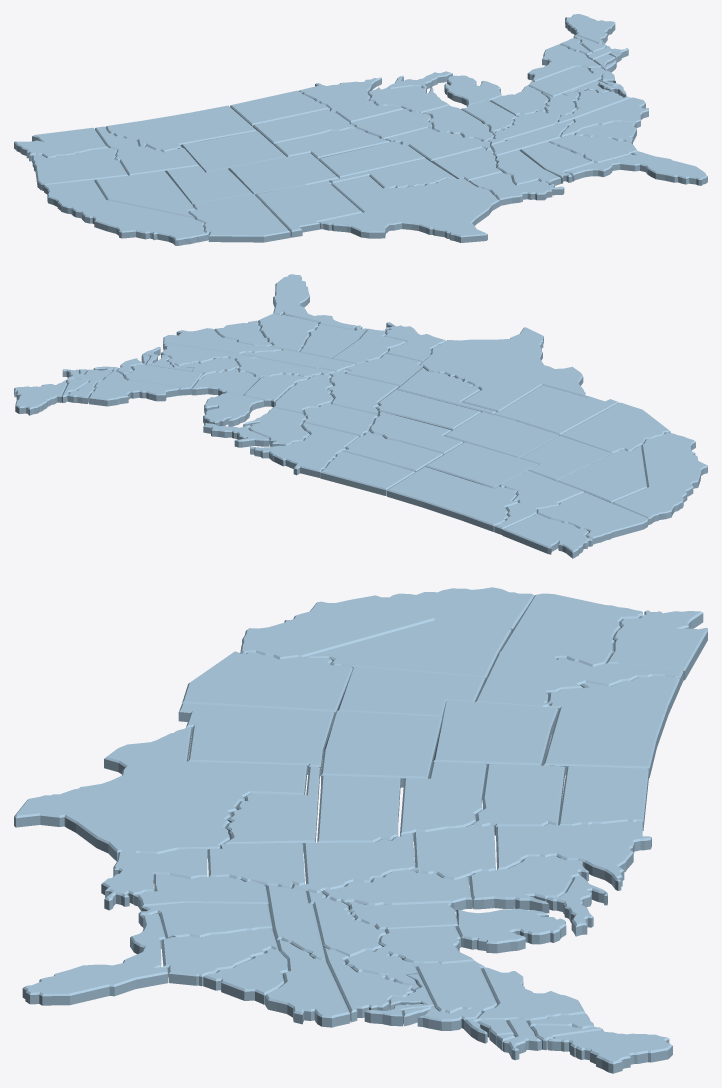
Rendered from BaseUSA.glb.
The picture shows the model from 3 angles, top to bottom: view 1: azimuth 30°, elevation 25°; view 2: azimuth 150°, elevation 25°; view 3: azimuth 270°, elevation 25°; orthographic projection. The views are drawn at different scales.
Visible parts, largest first — view 1: Texas, California, Montana, Arizona, New Mexico, Nevada, Colorado, Wyoming, Oregon, Florida, Minnesota, Idaho (+30 smaller); view 2: Texas, California, Montana, New Mexico, Arizona, Oregon, Nevada, Colorado, Minnesota, Wyoming, North dakota, Idaho (+29 smaller); view 3: Texas, California, Montana, New Mexico, Arizona, Nevada, Colorado, Wyoming, Oregon, Minnesota, Idaho, Florida (+32 smaller).
Part boxes in pixels (bbox=[...]): Texas: bbox=[319, 175, 499, 242]; California: bbox=[44, 179, 209, 245]; Montana: bbox=[105, 105, 256, 151]; Arizona: bbox=[189, 194, 290, 242]; New Mexico: bbox=[255, 180, 362, 237]; Nevada: bbox=[95, 170, 195, 218]; Colorado: bbox=[228, 152, 338, 194]; Wyoming: bbox=[181, 131, 286, 172]; Oregon: bbox=[32, 148, 128, 190]; Florida: bbox=[565, 151, 707, 185]; Minnesota: bbox=[298, 77, 403, 122]; Idaho: bbox=[95, 126, 198, 175]; Texas: bbox=[420, 327, 586, 411]; California: bbox=[612, 432, 707, 524]; Montana: bbox=[387, 467, 517, 531]; New Mexico: bbox=[494, 385, 618, 435]; Arizona: bbox=[560, 402, 670, 453]; Oregon: bbox=[537, 492, 648, 544]; Nevada: bbox=[557, 445, 646, 503]; Colorado: bbox=[444, 412, 559, 458]; Minnesota: bbox=[250, 423, 359, 477]; Wyoming: bbox=[425, 442, 538, 488]; North dakota: bbox=[320, 451, 415, 495]; Idaho: bbox=[494, 470, 583, 535]; Texas: bbox=[14, 727, 306, 861]; California: bbox=[240, 587, 534, 659]; Montana: bbox=[543, 676, 679, 777]; New Mexico: bbox=[178, 703, 334, 776]; Arizona: bbox=[182, 651, 352, 720]; Nevada: bbox=[304, 620, 511, 681]; Colorado: bbox=[321, 711, 442, 787]; Wyoming: bbox=[433, 700, 558, 769]; Oregon: bbox=[499, 593, 642, 666]; Minnesota: bbox=[496, 821, 651, 890]; Idaho: bbox=[475, 653, 683, 707]; Florida: bbox=[22, 913, 167, 1005].
Size of the model in its own units: 9.31 by 0.1 by 5.73.
